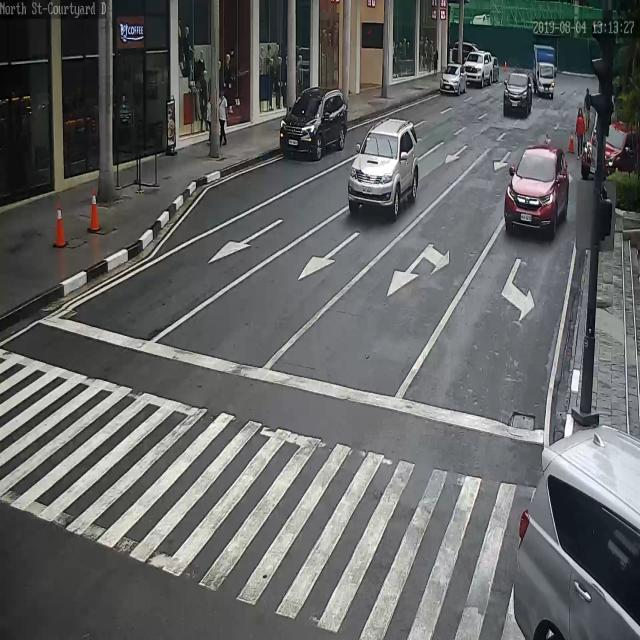car: (515, 431, 640, 640), (347, 115, 419, 218), (504, 144, 570, 236), (280, 86, 347, 161), (581, 110, 640, 181), (504, 73, 532, 116), (463, 52, 491, 83), (440, 65, 467, 94), (492, 55, 499, 82)
motorcycle: (533, 46, 556, 98)
